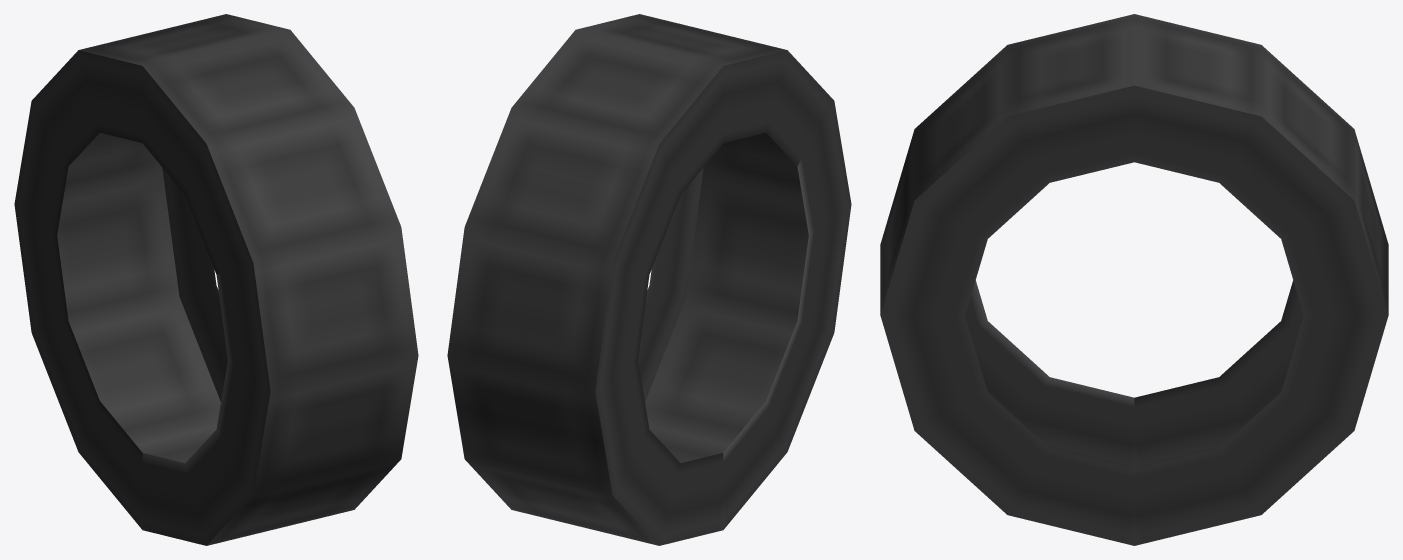
File: purex_pump.obj
The picture shows the model from 3 angles, left to right: view 1: azimuth 30°, elevation 25°; view 2: azimuth 150°, elevation 25°; view 3: azimuth 270°, elevation 25°; orthographic projection.
Parts seen in each view (by area): view 1: Pump; view 2: Pump; view 3: Pump.
Part boxes in pixels (x1=…): Pump: x1=14, y1=14, x2=418, y2=545; Pump: x1=447, y1=14, x2=851, y2=545; Pump: x1=880, y1=14, x2=1388, y2=545.
Bounding box in the file's own units: 0.5 × 1.5 × 1.5.
